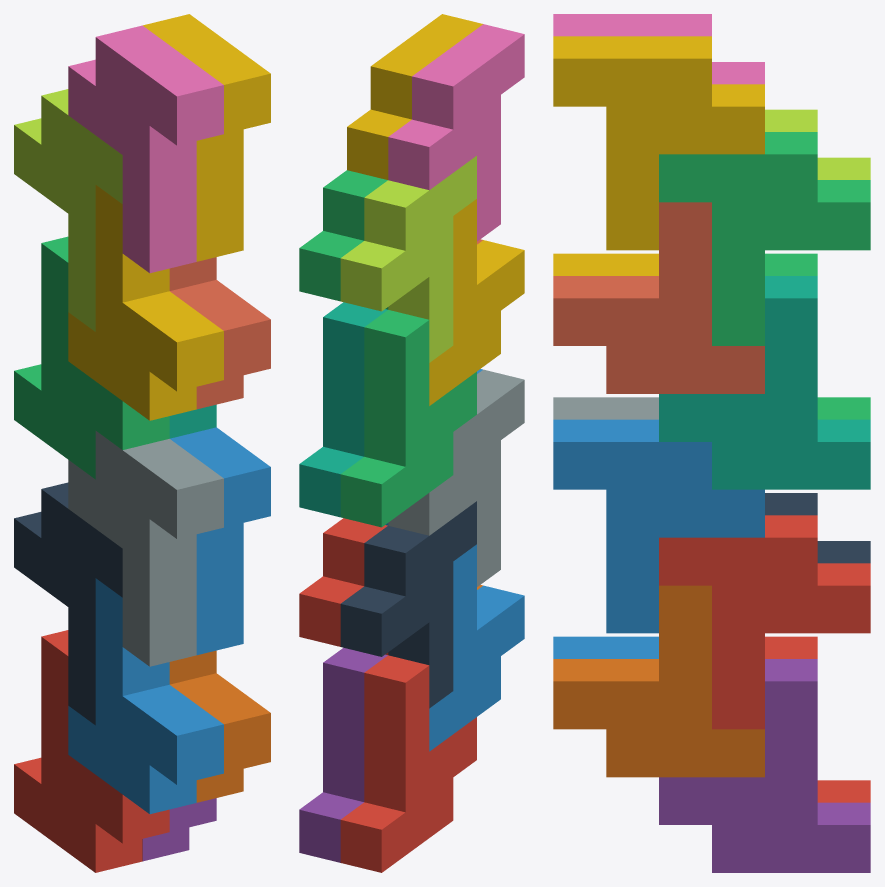
File: tiling.obj
3 views of the same model, side by side, from view 1: azimuth 30°, elevation 25°; view 2: azimuth 150°, elevation 25°; view 3: azimuth 270°, elevation 25° (orthographic). The views are drawn at different scales.
Parts seen in each view (by area): view 1: copy_2_domain_4, copy_2_domain_2, copy_1_domain_4, copy_1_domain_2, copy_1_domain_1, copy_1_domain_3, copy_2_domain_8, copy_2_domain_1, copy_2_domain_3, copy_2_domain_6, copy_1_domain_6, copy_1_domain_8 (+2 smaller); view 2: copy_1_domain_1, copy_1_domain_3, copy_2_domain_4, copy_2_domain_1, copy_2_domain_3, copy_2_domain_2, copy_1_domain_4, copy_1_domain_2, copy_1_domain_7, copy_1_domain_5, copy_2_domain_8, copy_2_domain_7 (+1 smaller); view 3: copy_2_domain_8, copy_1_domain_6, copy_2_domain_5, copy_2_domain_6, copy_2_domain_7, copy_1_domain_5, copy_1_domain_7, copy_1_domain_8, copy_2_domain_4, copy_1_domain_1, copy_1_domain_3, copy_2_domain_1 (+4 smaller).
Boxes of the visible parts, <box> form: copy_2_domain_4: <box>68,25,223,273</box>; copy_2_domain_2: <box>68,431,223,666</box>; copy_1_domain_4: <box>68,185,223,420</box>; copy_1_domain_2: <box>68,578,223,814</box>; copy_1_domain_1: <box>14,630,169,872</box>; copy_1_domain_3: <box>14,236,169,479</box>; copy_2_domain_8: <box>143,14,270,261</box>; copy_2_domain_1: <box>14,482,122,725</box>; copy_2_domain_3: <box>14,89,122,331</box>; copy_2_domain_6: <box>170,427,270,655</box>; copy_1_domain_6: <box>169,650,270,802</box>; copy_1_domain_8: <box>169,257,270,409</box>; copy_1_domain_1: <box>340,655,476,872</box>; copy_1_domain_3: <box>340,310,476,527</box>; copy_2_domain_4: <box>388,24,524,241</box>; copy_2_domain_1: <box>340,501,476,708</box>; copy_2_domain_3: <box>340,156,476,362</box>; copy_2_domain_2: <box>388,369,524,586</box>; copy_1_domain_4: <box>429,199,524,405</box>; copy_1_domain_2: <box>429,544,524,751</box>; copy_1_domain_7: <box>299,302,387,517</box>; copy_1_domain_5: <box>299,647,387,862</box>; copy_2_domain_8: <box>347,14,482,179</box>; copy_2_domain_7: <box>299,170,388,309</box>; copy_2_domain_8: <box>553,36,764,250</box>; copy_1_domain_6: <box>553,585,764,777</box>; copy_2_domain_5: <box>659,515,870,729</box>; copy_2_domain_6: <box>553,419,764,633</box>; copy_2_domain_7: <box>659,132,870,345</box>; copy_1_domain_5: <box>659,659,870,872</box>; copy_1_domain_7: <box>659,276,870,489</box>; copy_1_domain_8: <box>553,202,764,393</box>; copy_2_domain_4: <box>553,14,764,84</box>; copy_1_domain_1: <box>765,636,870,802</box>; copy_1_domain_3: <box>765,253,870,419</box>; copy_2_domain_1: <box>765,493,870,563</box>.
Size of the model in its own units: 2 by 17 by 6.
